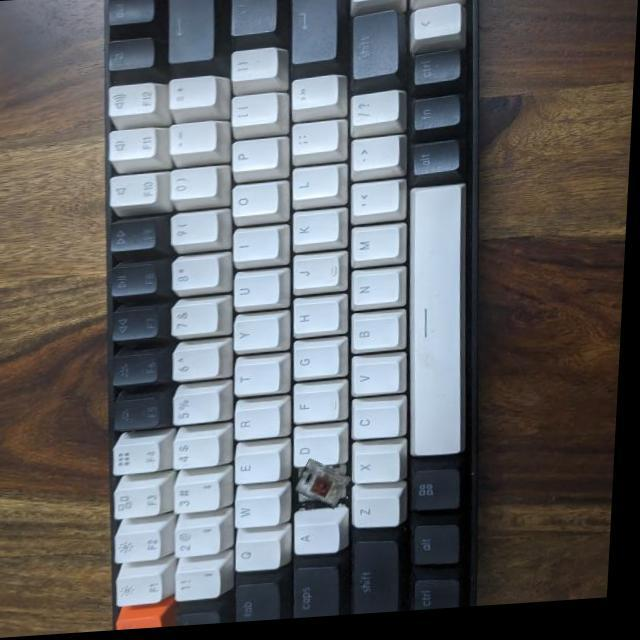key-switch: (299, 465, 355, 512)
